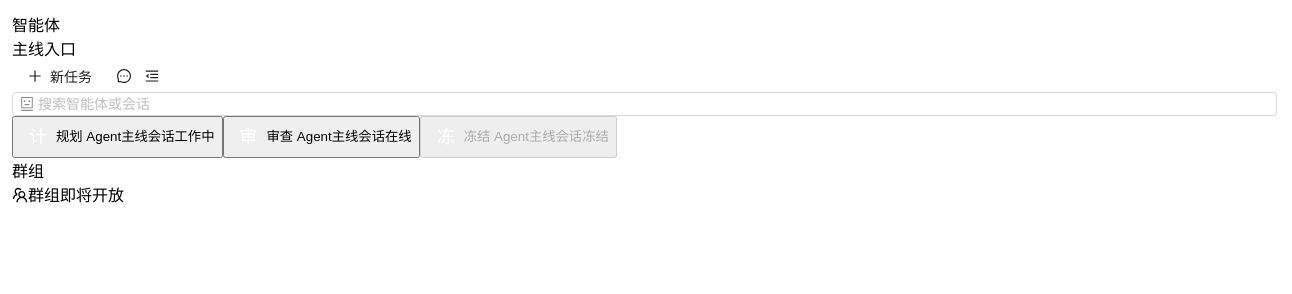
Test: SessionSidebar agent contacts › keeps session history behind a secondary details toggle
The image size is (1292, 294).
Click the button named "查看历史会话": (124, 76) [108,60,140,92]
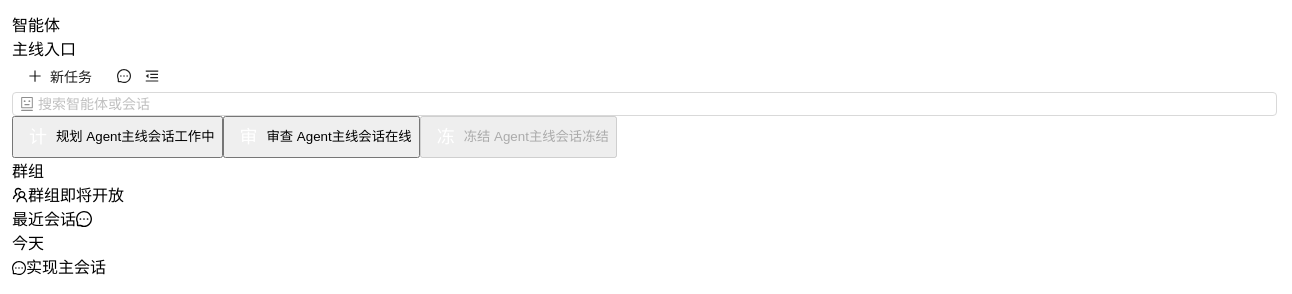
Result: the text "最近会话" is shown at [12,209,76,229]
Result: the text "实现主会话" is shown at [26,257,106,277]
